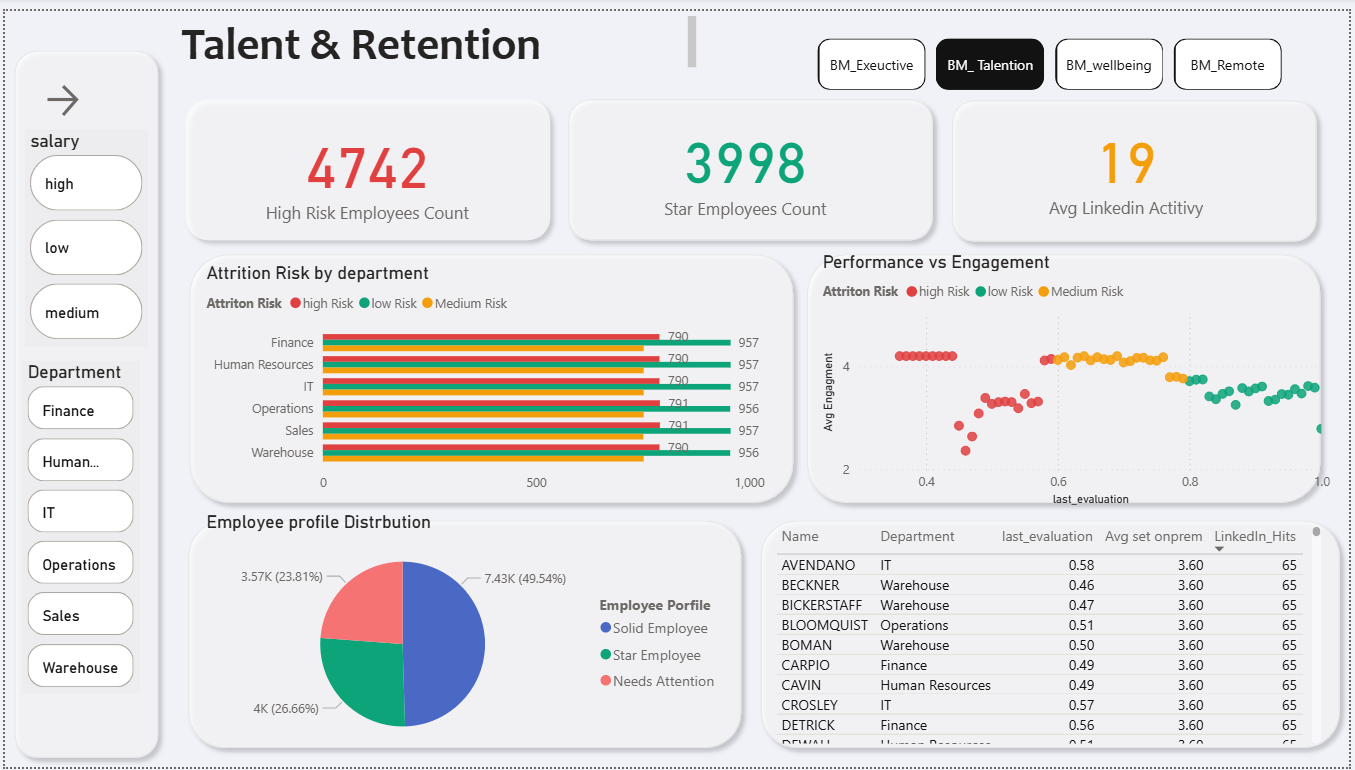

The page's visual inventory and layout, read from the dashboard file:
{"tool":"powerbi","page":{"name":"Talent & Renentoin","canvas":[1280,720],"ordinal":1},"visuals":[{"type":"shape","box":[0,28.8,154.9,691.6],"z":0},{"type":"textbox","box":[162.8,0,500,60.5],"z":1000},{"type":"shape","box":[162.8,75.6,365.1,152.3],"z":2000},{"type":"shape","box":[166.3,222.1,593,254.7],"z":3000},{"type":"shape","box":[754.7,222.1,507,254.7],"z":4000},{"type":"shape","box":[166,476.2,544.8,234.6],"z":5000},{"type":"shape","box":[710.8,476.2,569.5,234.6],"z":6000},{"type":"bookmarkNavigator","box":[773.3,26.4,444.3,49.2],"z":7000},{"type":"advancedSlicerVisual","fields":{"Values":["HR_Engagement_Sat_Sales_Updated.Department"]},"box":[16.8,333.8,111.7,315.8],"z":8000},{"type":"advancedSlicerVisual","fields":{"Values":["HR_Engagement_Sat_Sales_Updated.salary"]},"box":[19.2,112.9,117.7,206.5],"z":9000},{"type":"actionButton","box":[34.8,66,99.7,39.6],"z":10000},{"type":"shape","box":[527.9,75.6,365.1,152.3],"z":11000},{"type":"shape","box":[893,76.7,365.1,152.3],"z":12000},{"type":"card","fields":{"Values":["HR_Engagement_Sat_Sales_Updated.High Risk Employees Count"]},"box":[195.3,95.3,300,116.3],"z":13000},{"type":"card","fields":{"Values":["HR_Engagement_Sat_Sales_Updated.Star Employees Count"]},"box":[551.2,94.2,308.1,110.5],"z":14000},{"type":"card","fields":{"Values":["HR_Engagement_Sat_Sales_Updated.Avg Linkedin Actitivy"]},"box":[917.4,90.7,300,117.4],"z":15000},{"type":"scatterChart","title":"Performance vs Engagement ","fields":{"X":["HR_Engagement_Sat_Sales_Updated.last_evaluation"],"Y":["HR_Engagement_Sat_Sales_Updated.Avg Engagment"],"Series":["HR_Engagement_Sat_Sales_Updated.Attriton Risk"]},"box":[773.3,229.1,493,247.7],"z":16000},{"type":"clusteredBarChart","title":"Attrition Risk by department","fields":{"Category":["HR_Engagement_Sat_Sales_Updated.Department"],"Y":["CountNonNull(HR_Engagement_Sat_Sales_Updated.ID)"],"Series":["HR_Engagement_Sat_Sales_Updated.Attriton Risk"]},"box":[187.2,239.5,551.2,227.9],"z":17000},{"type":"tableEx","fields":{"Values":["HR_Engagement_Sat_Sales_Updated.Name","HR_Engagement_Sat_Sales_Updated.Department","HR_Engagement_Sat_Sales_Updated.last_evaluation","HR_Engagement_Sat_Sales_Updated.Avg set onprem","HR_Engagement_Sat_Sales_Updated.LinkedIn_Hits"]},"box":[728.6,485.8,529.7,216.8],"z":18000},{"type":"pieChart","title":" Employee profile Distrbution","fields":{"Category":["HR_Engagement_Sat_Sales_Updated.Employee Porfile"],"Y":["CountNonNull(HR_Engagement_Sat_Sales_Updated.Employee Porfile)"]},"box":[186.6,476.2,505,234.6],"z":19000}]}

Visuals, with their boxes in screenshot pixels (x1, y1, x2, y2), scaled from the page's 1280x720 canvas onto the 1355x770 screenshot:
shape: bbox(0, 31, 164, 769)
textbox: bbox(172, 0, 702, 65)
shape: bbox(172, 81, 559, 244)
shape: bbox(176, 238, 804, 510)
shape: bbox(799, 238, 1336, 510)
shape: bbox(176, 509, 752, 760)
shape: bbox(752, 509, 1354, 760)
bookmarkNavigator: bbox(819, 28, 1289, 81)
advancedSlicerVisual - HR_Engagement_Sat_Sales_Updated.Department: bbox(18, 357, 136, 695)
advancedSlicerVisual - HR_Engagement_Sat_Sales_Updated.salary: bbox(20, 121, 145, 342)
actionButton: bbox(37, 71, 142, 113)
shape: bbox(559, 81, 945, 244)
shape: bbox(945, 82, 1332, 245)
card - HR_Engagement_Sat_Sales_Updated.High Risk Employees Count: bbox(207, 102, 524, 226)
card - HR_Engagement_Sat_Sales_Updated.Star Employees Count: bbox(583, 101, 910, 219)
card - HR_Engagement_Sat_Sales_Updated.Avg Linkedin Actitivy: bbox(971, 97, 1289, 223)
"Performance vs Engagement " scatterChart: bbox(819, 245, 1340, 510)
"Attrition Risk by department" clusteredBarChart: bbox(198, 256, 782, 500)
tableEx - HR_Engagement_Sat_Sales_Updated.Name x HR_Engagement_Sat_Sales_Updated.Department: bbox(771, 520, 1332, 751)
" Employee profile Distrbution" pieChart: bbox(198, 509, 732, 760)
